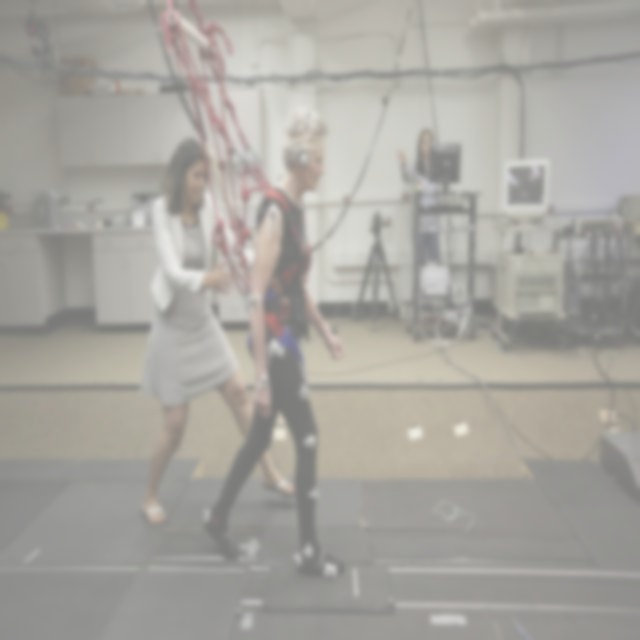pessoa: (201, 104, 351, 581), (134, 134, 298, 528), (397, 128, 441, 264)
